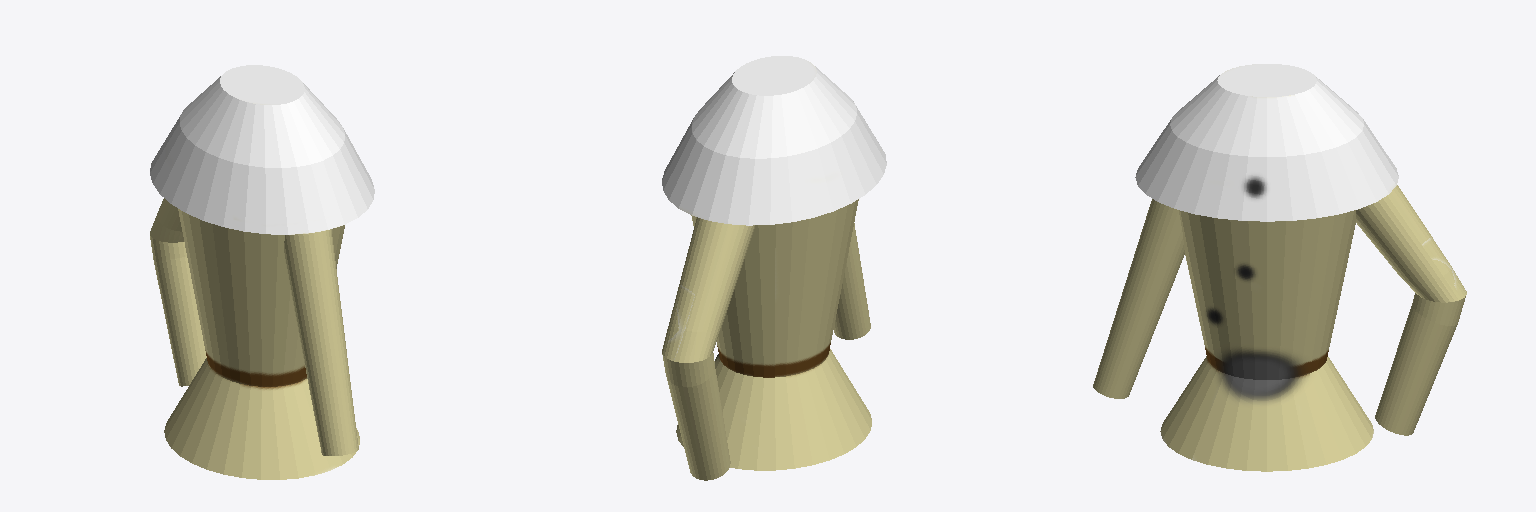
3 renders of one model, left to right at view 1: azimuth 30°, elevation 25°; view 2: azimuth 150°, elevation 25°; view 3: azimuth 270°, elevation 25°, orthographic.
Parts seen in each view (by area): view 1: Cylinder.001; view 2: Cylinder.001; view 3: Cylinder.001.
Part boxes in pixels (left/top/right/bottom): Cylinder.001: left=150, top=65, right=374, bottom=479; Cylinder.001: left=662, top=56, right=886, bottom=480; Cylinder.001: left=1093, top=64, right=1466, bottom=471.
Size of the model in its own units: 1.29 by 2.37 by 2.29.
1 materials, 1 textured.